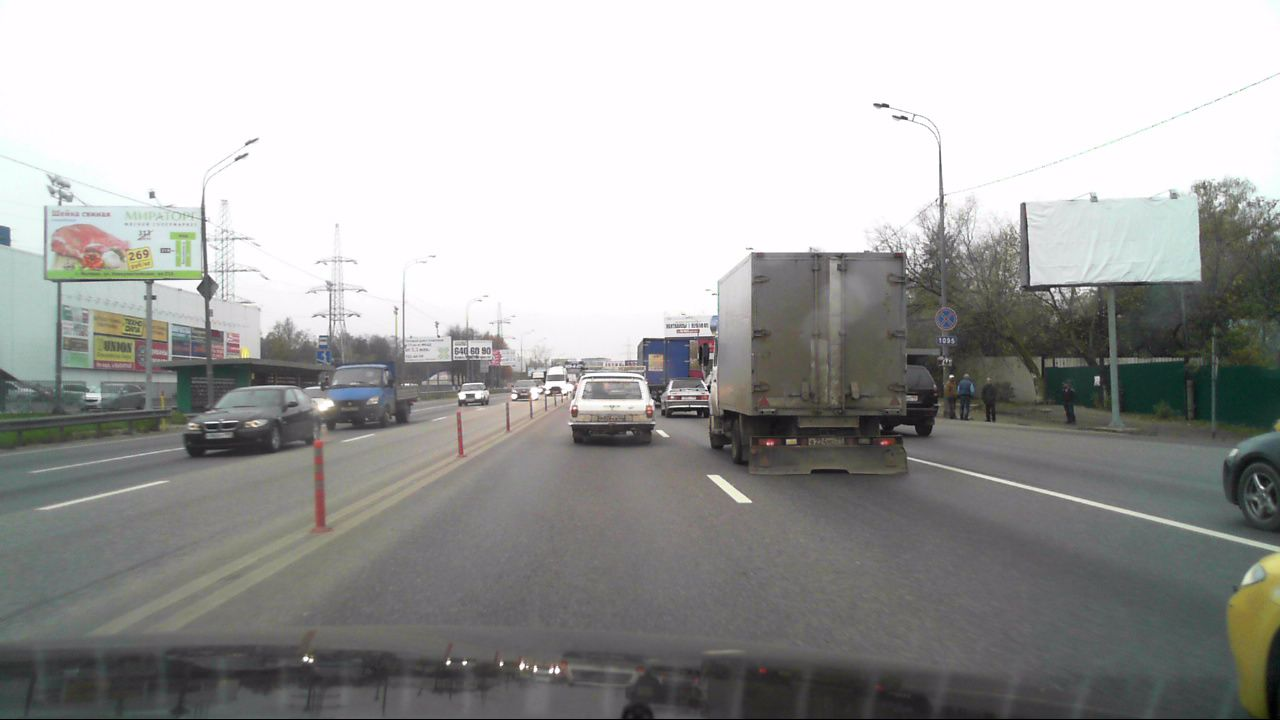No Parking: (934, 307, 956, 331)
